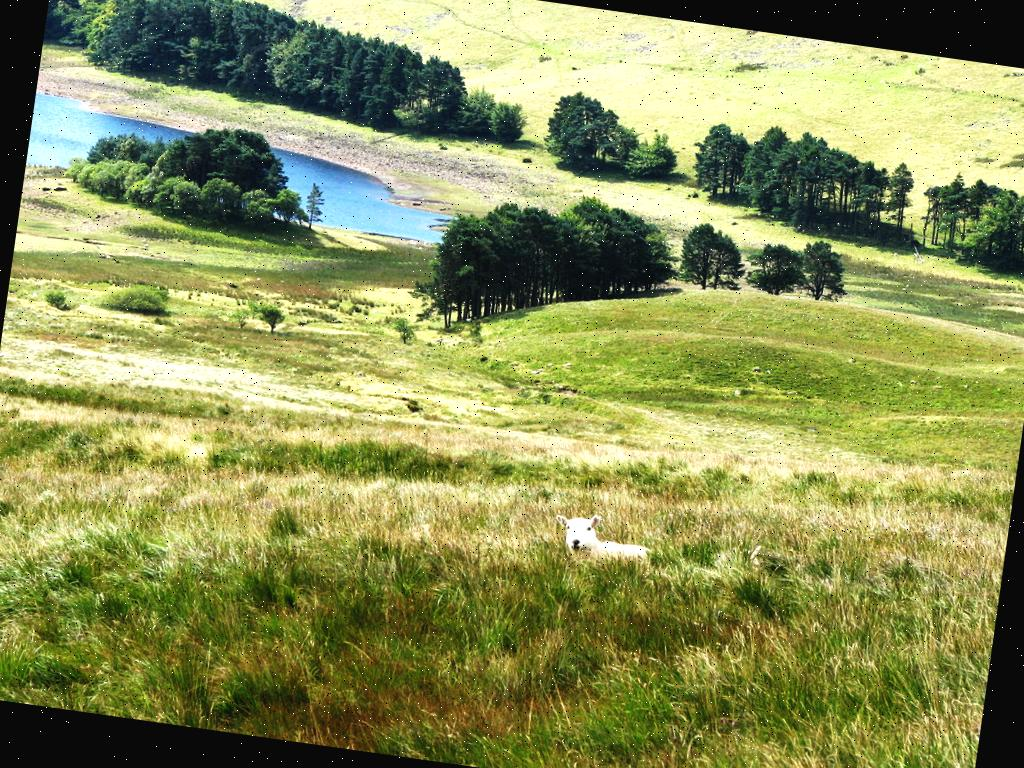Sheep: (550, 506, 657, 571)
